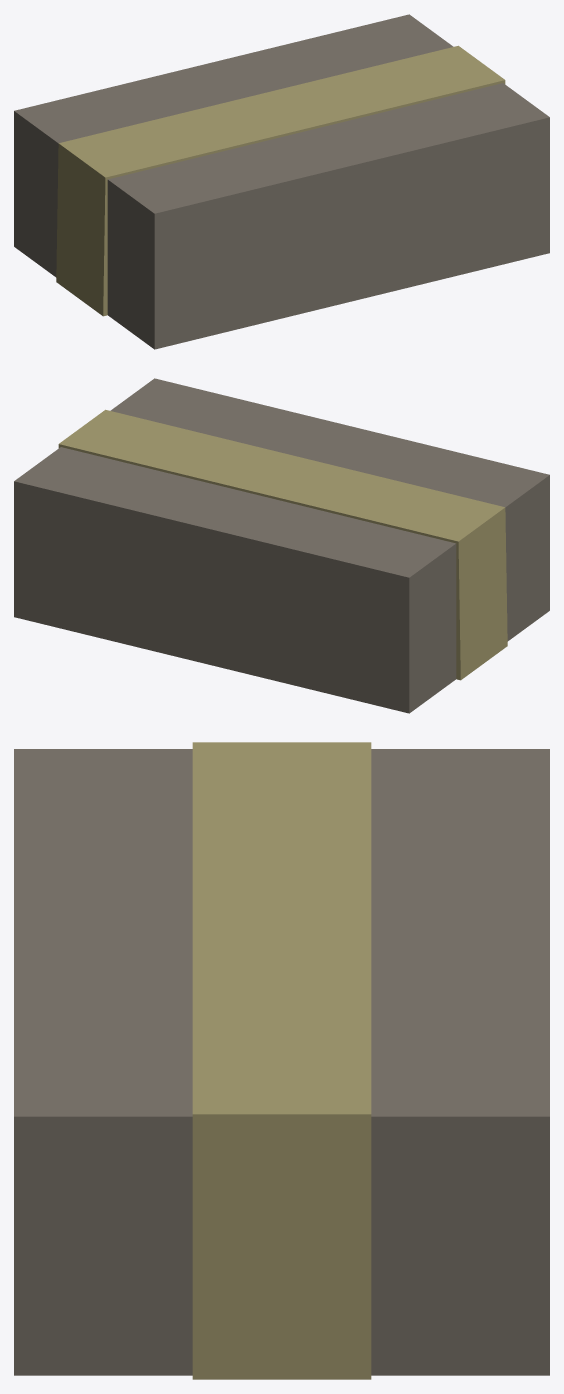
File: box_close.fbx
The picture shows the model from 3 angles, top to bottom: view 1: azimuth 30°, elevation 25°; view 2: azimuth 150°, elevation 25°; view 3: azimuth 270°, elevation 25°; orthographic projection. The views are drawn at different scales.
Parts seen in each view (by area): view 1: polySurface12, polySurface11; view 2: polySurface12, polySurface11; view 3: polySurface12, polySurface11.
Boxes of the visible parts, x1,y1,x2,y2 form: polySurface12: (14,14,549,349); polySurface11: (56,45,505,316); polySurface12: (14,378,549,713); polySurface11: (58,409,507,680); polySurface12: (14,749,549,1375); polySurface11: (192,742,371,1379).
Bounding box in the file's own units: 3.55 × 1.16 × 2.13.
Materials: 2 (2 with a texture image).
